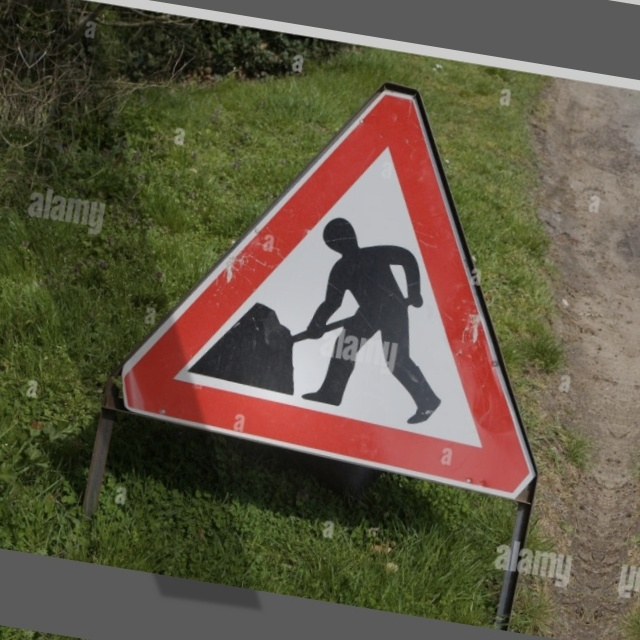Men_at_Work: (103, 49, 606, 503)
